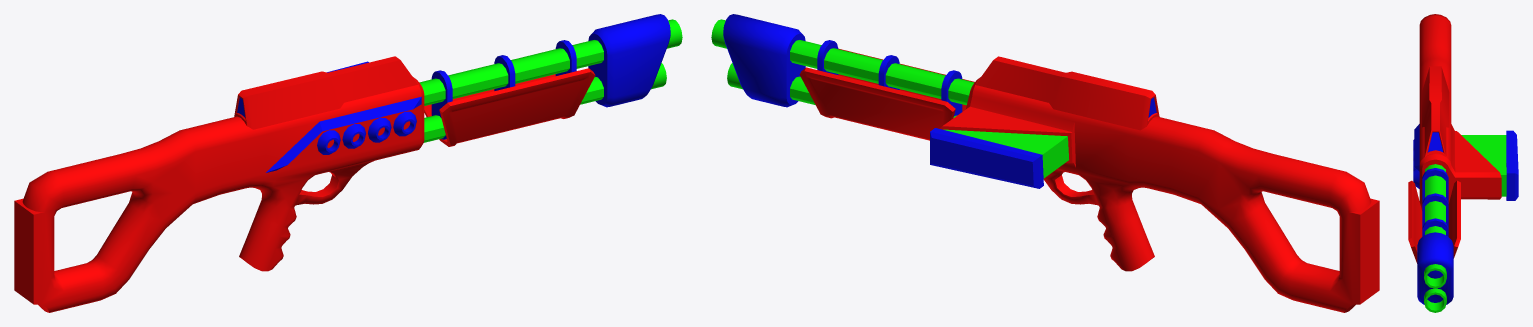
The model's file is SM_laserrifle.FBX.
The picture shows the model from 3 angles, left to right: view 1: azimuth 30°, elevation 25°; view 2: azimuth 150°, elevation 25°; view 3: azimuth 270°, elevation 25°; orthographic projection. The views are drawn at different scales.
Parts seen in each view (by area): view 1: SM_laserrifle; view 2: SM_laserrifle; view 3: SM_laserrifle.
Boxes of the visible parts, bbox=[...] form: SM_laserrifle: bbox=[14, 14, 682, 312]; SM_laserrifle: bbox=[711, 14, 1379, 312]; SM_laserrifle: bbox=[1408, 14, 1518, 312].
Bounding box in the file's own units: 233 × 60.29 × 41.15.
